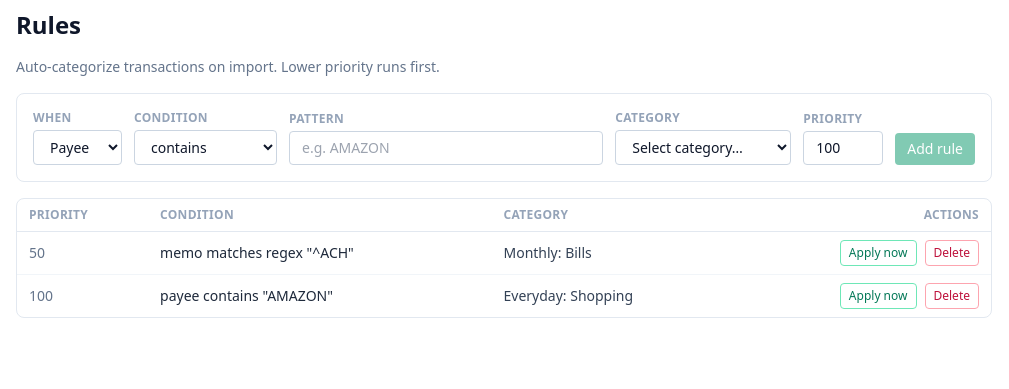
Scenario: RulesPage › clears the pattern on success but keeps it when the create fails
Type "STARBUCKS" into the field labelled "Pattern" at (446, 148), box [289,131,603,165]
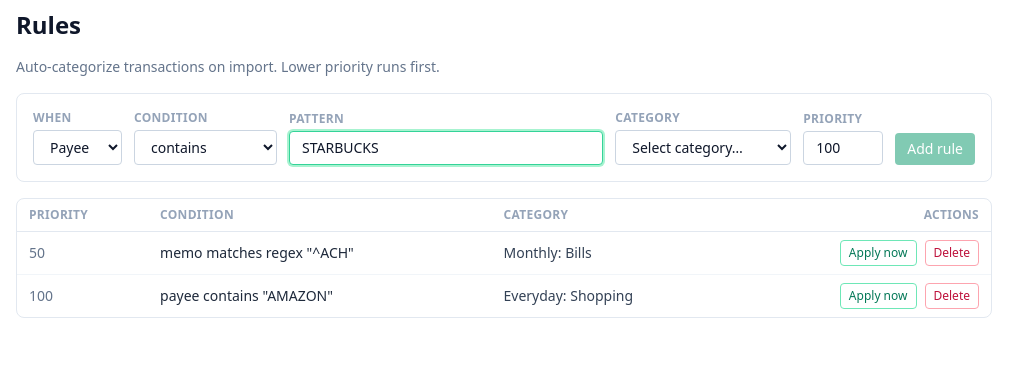
Select "Monthly: Bills" in the dropdown named "Rule category" at (703, 148), box [615,130,791,165]
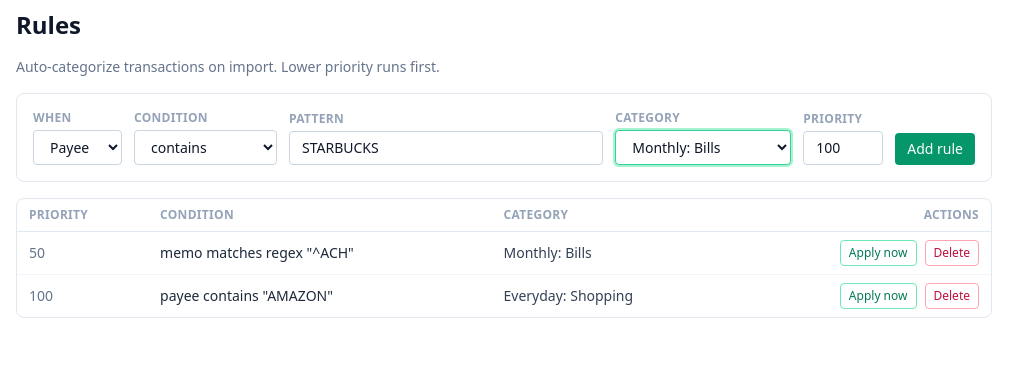
Click the button "Add rule" at (935, 149), box [895,133,975,165]
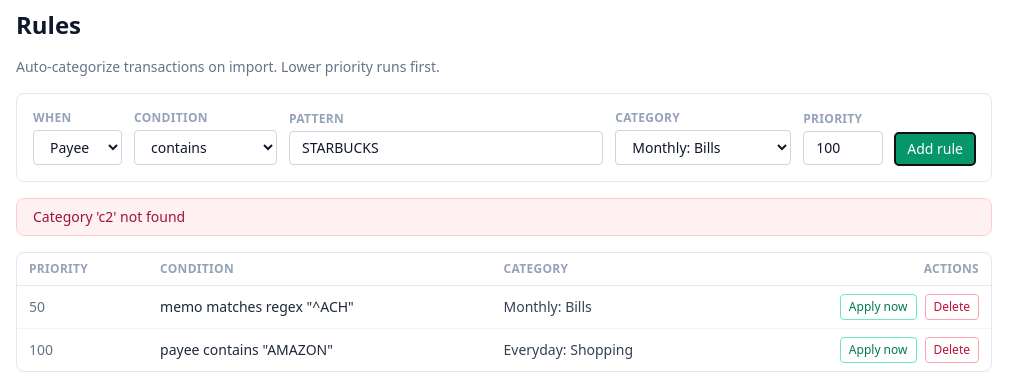
Now the message reads "Category 'c2' not found", box [33,207,185,226]
Click the button "Add rule" at (935, 149), box [895,133,975,165]
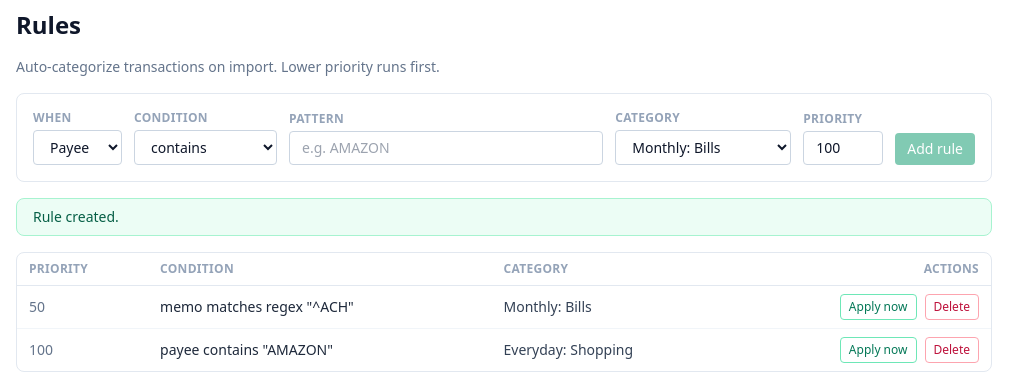
Now the message "Rule created." is shown, box [16,198,992,236]
Now the field labelled "Pattern" is empty, box [289,131,603,165]
